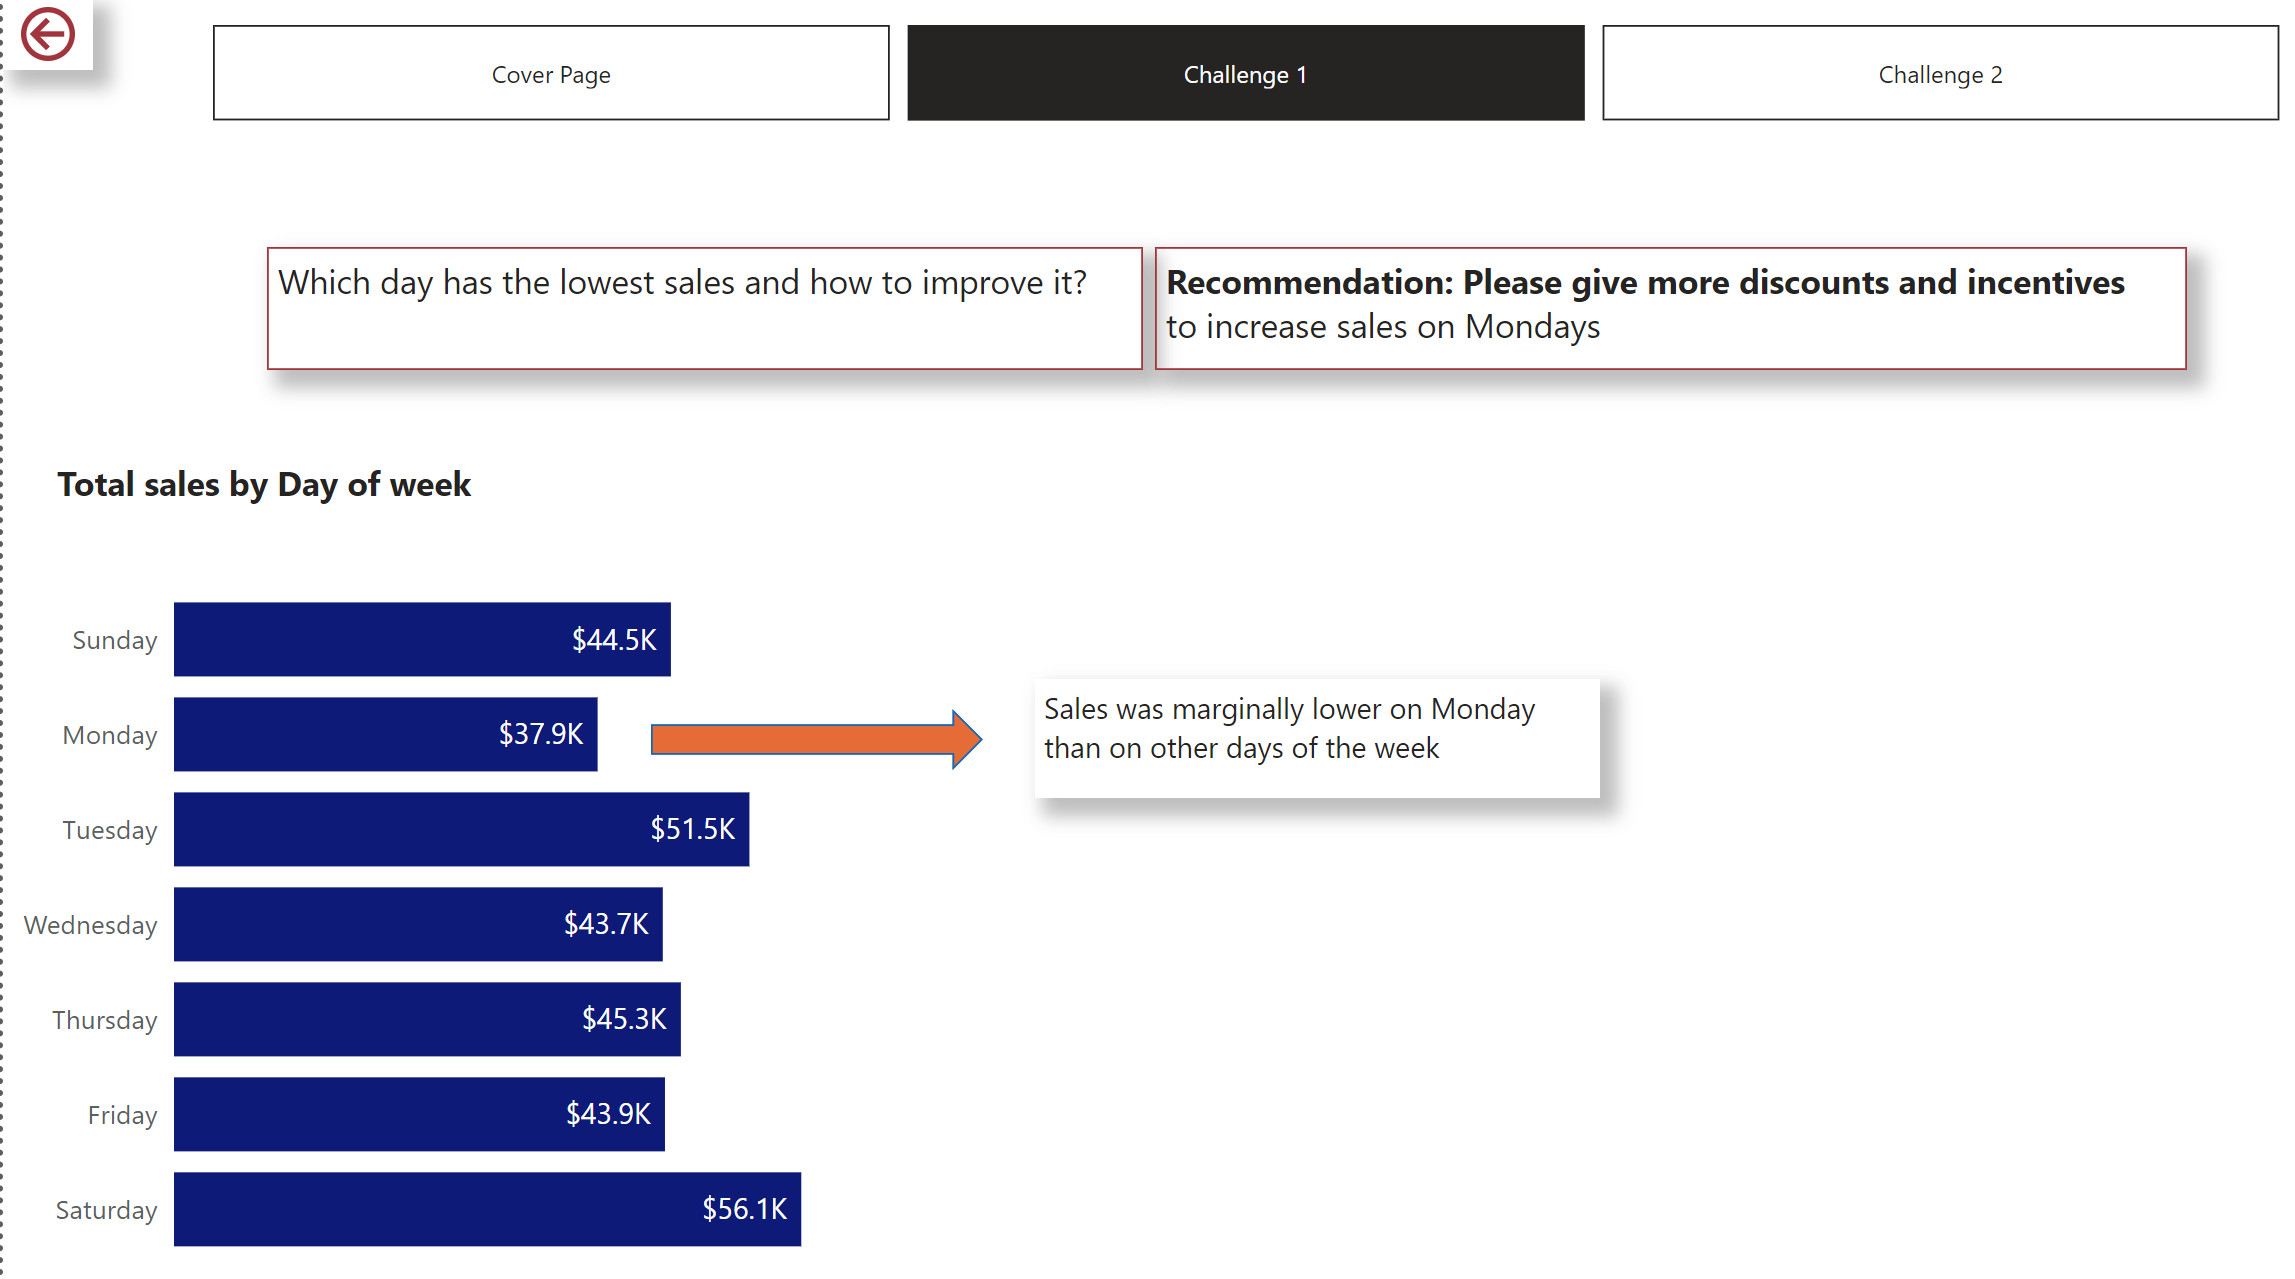

The dashboard page shown, as its layout file describes it:
{"tool":"powerbi","page":{"name":"Challenge 1","canvas":[1280,720],"ordinal":6},"visuals":[{"type":"clusteredBarChart","fields":{"Y":["Sum(supermarket_sales.Sales)"],"Category":["Dates.WeekDay"]},"box":[0,300.9,500,419.1],"z":0},{"type":"textbox","box":[25,251.7,293.3,50],"z":1000},{"type":"textbox","box":[146.7,138.3,486.7,68.3],"z":2000},{"type":"textbox","box":[572.8,378.6,313.9,66.3],"z":3000},{"type":"shape","box":[359.2,394.8,184.4,34],"z":4000},{"type":"pageNavigator","box":[116.5,14.6,1148.8,53.4],"z":6000},{"type":"textbox","box":[640,138.3,573.3,68.3],"z":6001},{"type":"actionButton","box":[0,0,50,40],"z":6002}]}

Visuals, with their boxes in screenshot pixels (x1, y1, x2, y2), scaled from the page's 1280x720 canvas onto the 2295x1279 screenshot:
clusteredBarChart - Sum(supermarket_sales.Sales) x Dates.WeekDay: {"x1": 0, "y1": 535, "x2": 896, "y2": 1278}
textbox: {"x1": 45, "y1": 447, "x2": 571, "y2": 536}
textbox: {"x1": 263, "y1": 246, "x2": 1136, "y2": 367}
textbox: {"x1": 1027, "y1": 673, "x2": 1590, "y2": 790}
shape: {"x1": 644, "y1": 701, "x2": 975, "y2": 762}
pageNavigator: {"x1": 209, "y1": 26, "x2": 2269, "y2": 121}
textbox: {"x1": 1148, "y1": 246, "x2": 2175, "y2": 367}
actionButton: {"x1": 0, "y1": 0, "x2": 90, "y2": 71}
